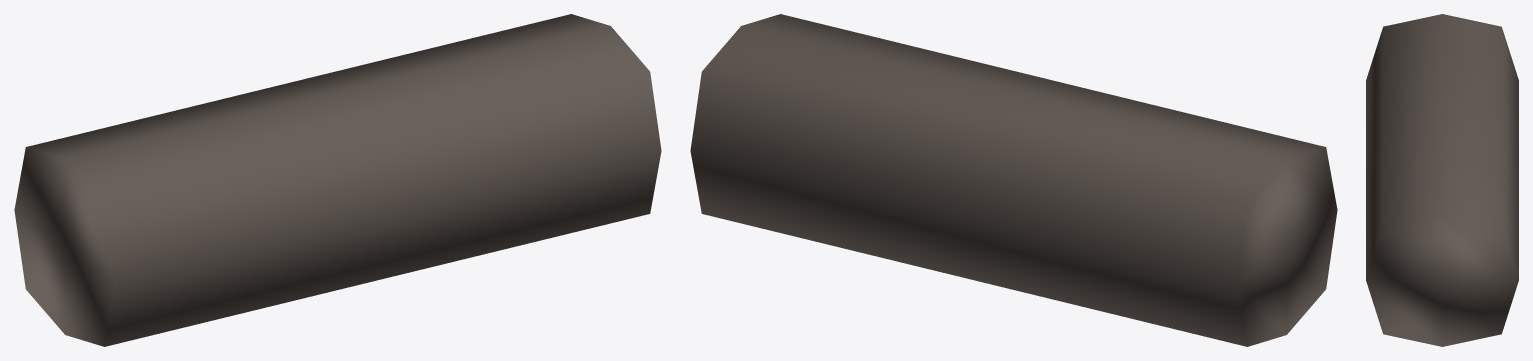
Rendered from spacer_stone_tiny.glb.
3 renders of one model, left to right at view 1: azimuth 30°, elevation 25°; view 2: azimuth 150°, elevation 25°; view 3: azimuth 270°, elevation 25°, orthographic. The views are drawn at different scales.
Visible parts, largest first — view 1: spacer_stone_tiny; view 2: spacer_stone_tiny; view 3: spacer_stone_tiny.
Part boxes in pixels (x1,y1,x2,y2): spacer_stone_tiny: (14,14,661,346); spacer_stone_tiny: (690,14,1337,346); spacer_stone_tiny: (1366,14,1518,346).
Size of the model in its own units: 4 by 1.23 by 1.29.
Materials: 1 (1 with a texture image).
